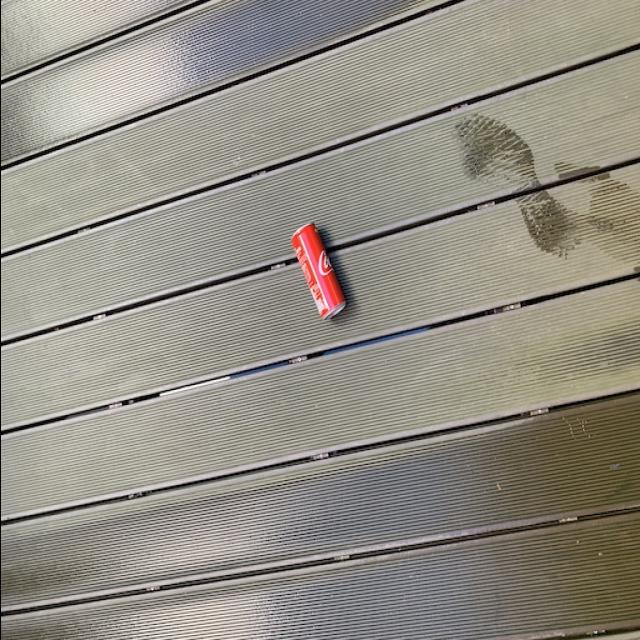Aluminum Can: (281, 221, 349, 325)
